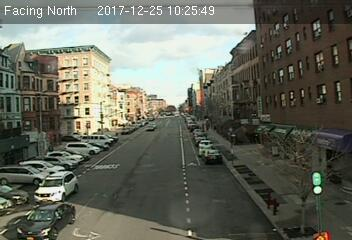car: (14, 203, 79, 240), (31, 168, 78, 200), (203, 149, 223, 165)
